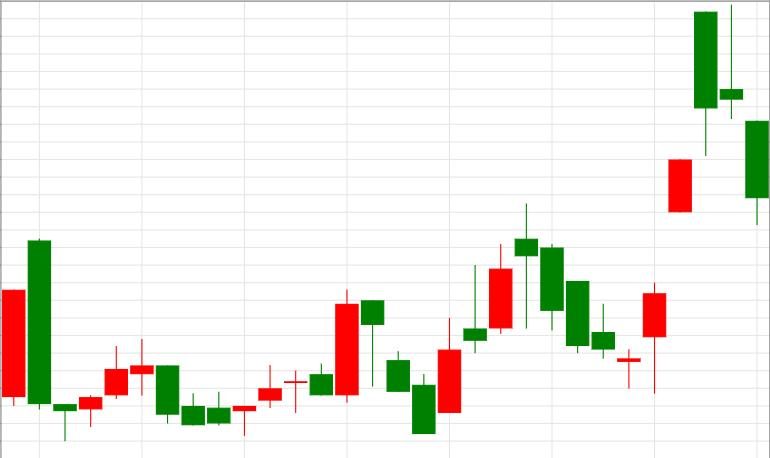evening_star_fall: (413, 203, 564, 434)
